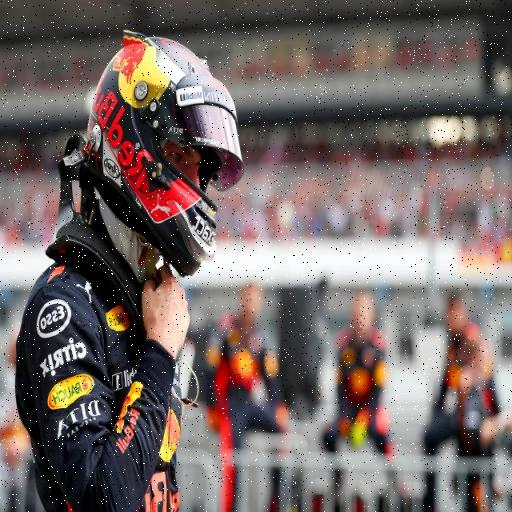Helmet: (88, 32, 243, 275)
